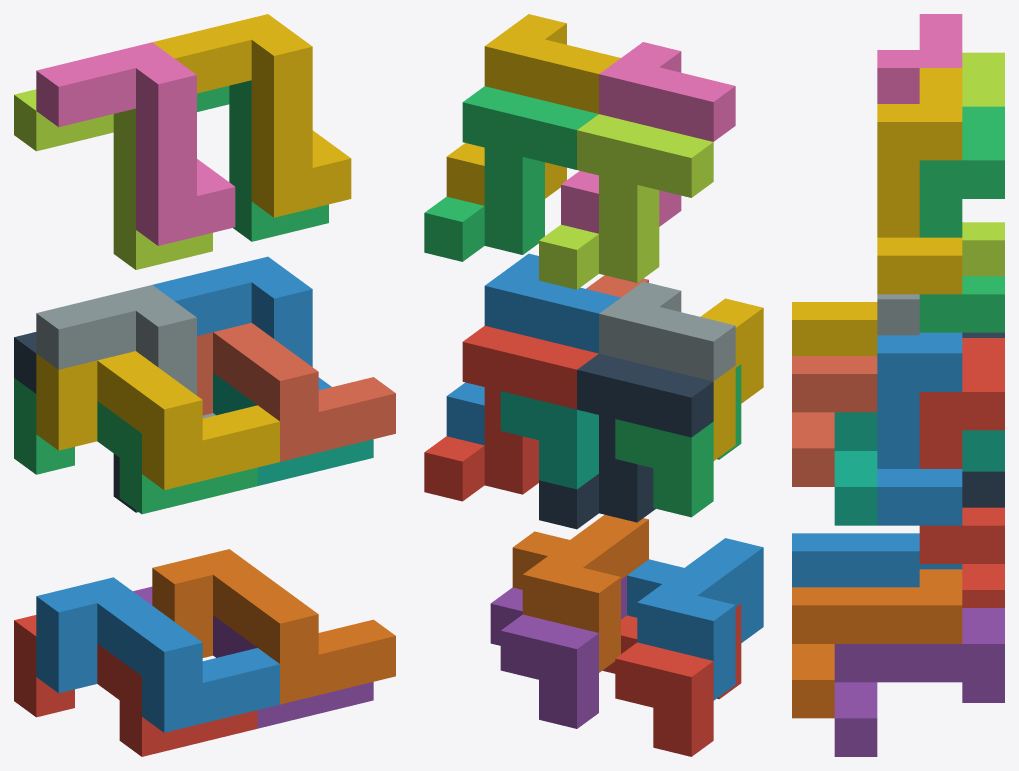
Rendered from tiling.obj.
3 renders of one model, left to right at view 1: azimuth 30°, elevation 25°; view 2: azimuth 150°, elevation 25°; view 3: azimuth 270°, elevation 25°, orthographic. The views are drawn at different scales.
Parts seen in each view (by area): view 1: copy_1_domain_2, copy_2_domain_4, copy_1_domain_4, copy_2_domain_8, copy_1_domain_6, copy_1_domain_8, copy_2_domain_2, copy_2_domain_6, copy_1_domain_1, copy_2_domain_3, copy_1_domain_3, copy_2_domain_7 (+3 smaller); view 2: copy_2_domain_3, copy_2_domain_7, copy_2_domain_1, copy_2_domain_5, copy_1_domain_2, copy_1_domain_6, copy_2_domain_4, copy_2_domain_8, copy_2_domain_6, copy_1_domain_5, copy_1_domain_1, copy_2_domain_2 (+4 smaller); view 3: copy_2_domain_8, copy_1_domain_6, copy_2_domain_6, copy_1_domain_5, copy_2_domain_7, copy_2_domain_5, copy_1_domain_8, copy_1_domain_2, copy_1_domain_7, copy_2_domain_3, copy_2_domain_4, copy_1_domain_4 (+3 smaller).
Part boxes in pixels (x1,y1,x2,y2): copy_1_domain_2: (36,577,279,732); copy_2_domain_4: (36,42,235,245); copy_1_domain_4: (36,351,279,490); copy_2_domain_8: (152,14,351,217); copy_1_domain_6: (152,549,395,704); copy_1_domain_8: (197,323,395,461); copy_2_domain_2: (36,285,215,418); copy_2_domain_6: (152,256,331,390); copy_1_domain_1: (14,615,257,756); copy_2_domain_3: (14,89,212,269); copy_1_domain_3: (14,378,257,514); copy_2_domain_7: (197,80,328,241); copy_2_domain_3: (539,114,713,289); copy_2_domain_7: (424,86,598,261); copy_2_domain_1: (539,353,713,529); copy_2_domain_5: (424,325,598,501); copy_1_domain_2: (627,538,763,700); copy_1_domain_6: (512,514,648,672); copy_2_domain_4: (561,42,735,233); copy_2_domain_8: (446,14,620,205); copy_2_domain_6: (446,253,620,445); copy_1_domain_5: (490,575,626,728); copy_1_domain_1: (605,604,741,756); copy_2_domain_2: (599,281,735,381); copy_2_domain_8: (877,68,962,294); copy_1_domain_6: (792,569,962,718); copy_2_domain_6: (877,332,962,525); copy_1_domain_5: (834,608,1004,756); copy_2_domain_7: (919,106,1004,332); copy_2_domain_5: (919,338,1004,563); copy_1_domain_8: (792,356,877,486); copy_1_domain_2: (792,533,962,587); copy_1_domain_7: (834,412,1004,525); copy_2_domain_3: (962,52,1004,276); copy_2_domain_4: (877,14,962,103); copy_1_domain_4: (792,302,877,355).
Size of the model in its own units: 7 by 16 by 5.
